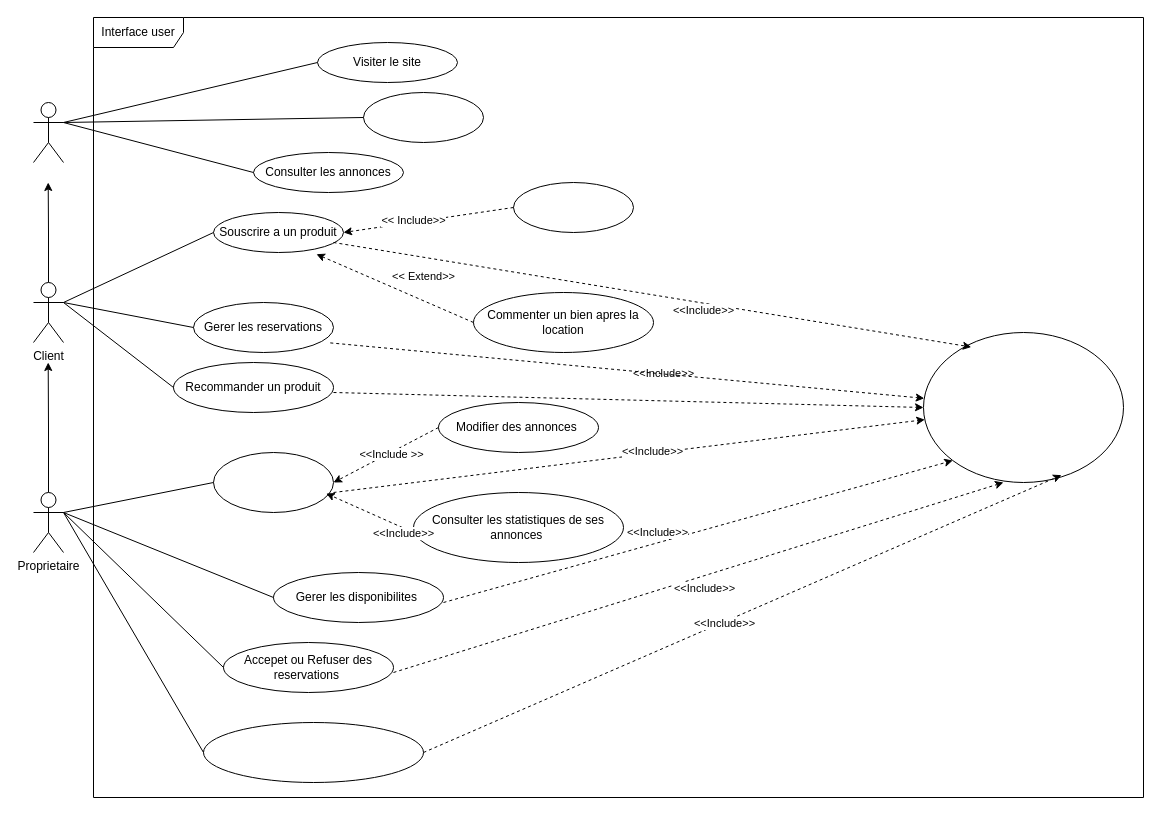
Some shapes in this 1161 by 815 pixel diagram are drawn without their labels. Each missing label, with the centre of its shape:
Communiquer avec des clients via messagerie interne: point (313, 752)
Fliter les biens: point (423, 117)
Payer en ligne: point (573, 207)
Publier des offres: point (273, 482)
S'authentifer: point (1023, 407)
Visiteur: point (48, 132)
